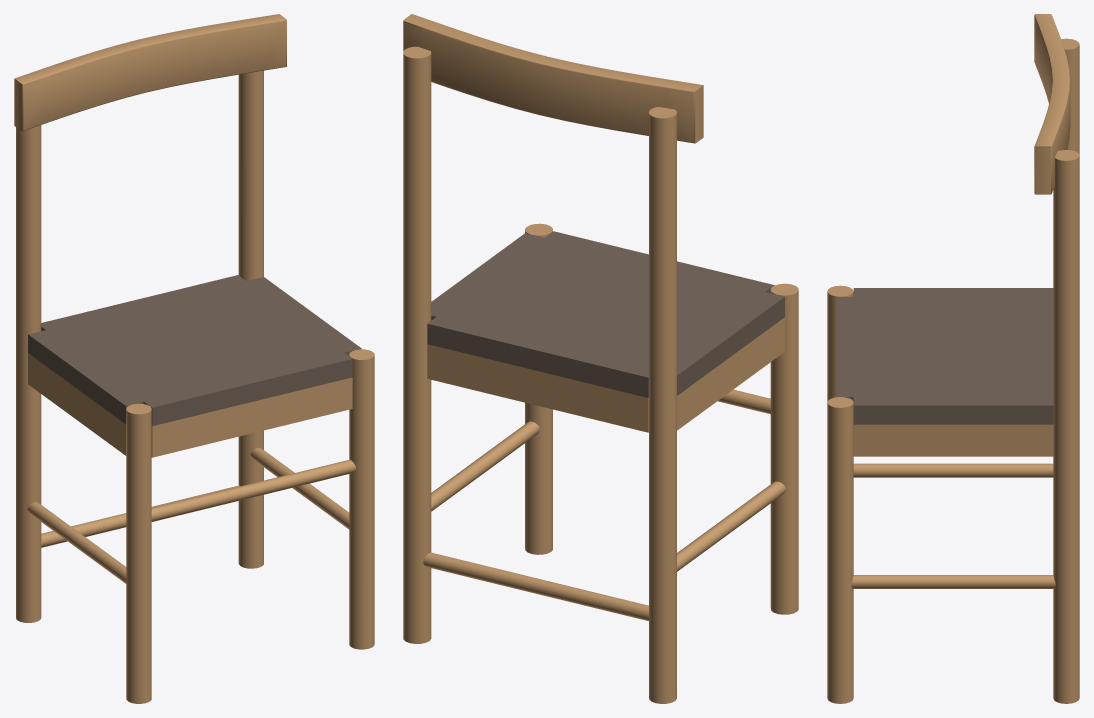
File: chair.obj
3 views of the same model, side by side, from view 1: azimuth 30°, elevation 25°; view 2: azimuth 150°, elevation 25°; view 3: azimuth 270°, elevation 25° (orthographic). The views are drawn at different scales.
Parts seen in each view (by area): view 1: chair.001; view 2: chair.001; view 3: chair.001.
Boxes of the visible parts, x1=… form: chair.001: x1=14, y1=14, x2=374, y2=703; chair.001: x1=403, y1=14, x2=798, y2=703; chair.001: x1=827, y1=14, x2=1079, y2=703.
Bounding box in the file's own units: 0.2908 × 0.577 × 0.2345.
